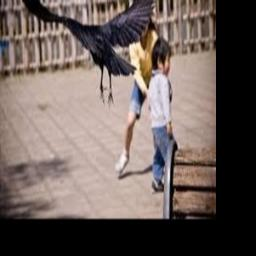Crow: (20, 0, 159, 105)
